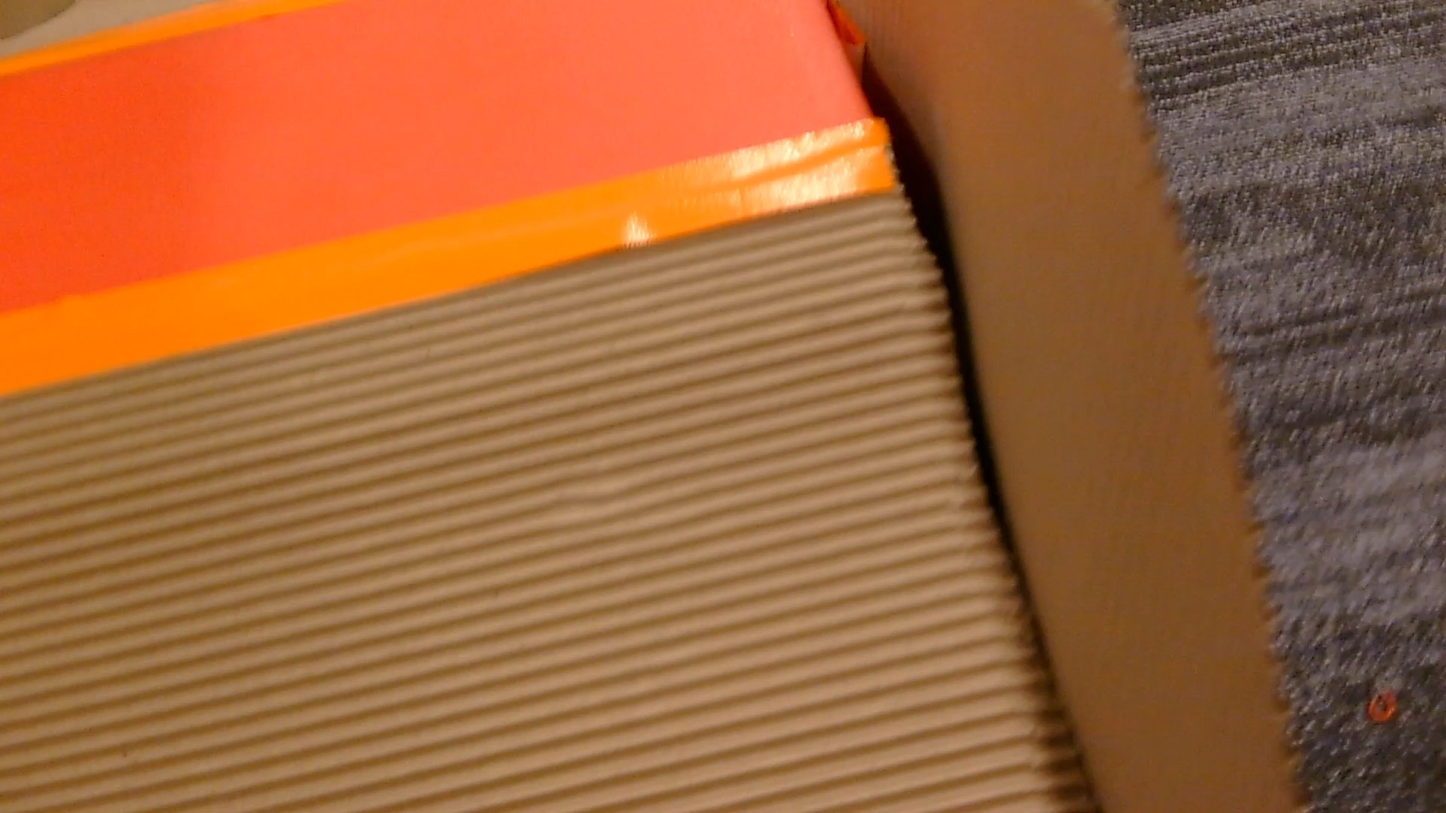Ramp: (0, 0, 1296, 812)
